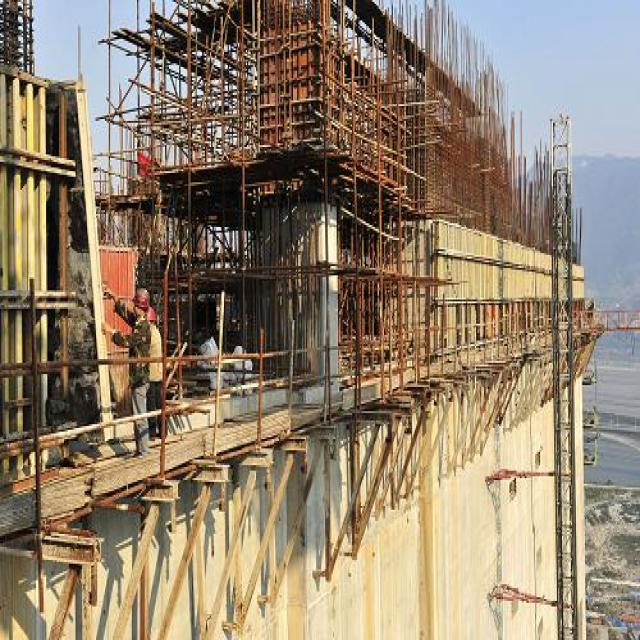helmet: (129, 287, 150, 320), (144, 302, 158, 328)
